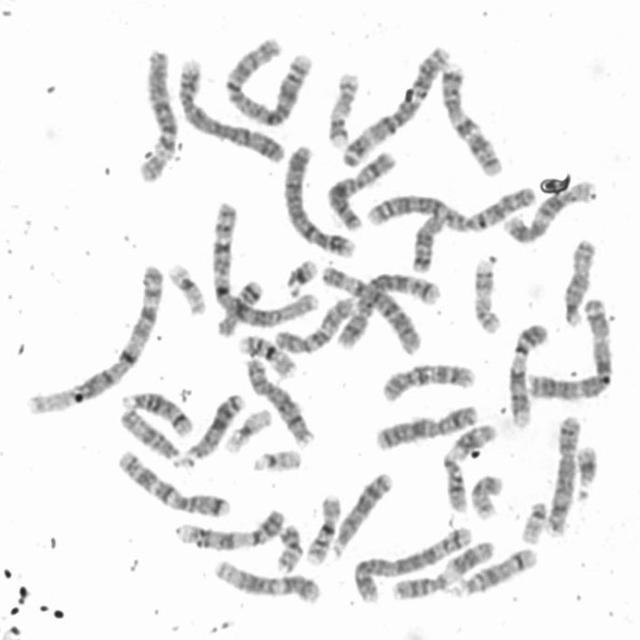A1: (21, 258, 167, 419), (207, 195, 322, 334)
A2: (361, 180, 540, 233), (220, 30, 315, 128)
A3: (340, 41, 452, 168), (521, 294, 615, 402)
B4: (174, 55, 288, 164), (278, 141, 356, 260)
B5: (350, 522, 476, 605), (332, 270, 442, 350)
C10: (272, 291, 358, 356), (378, 358, 479, 405)
C11: (388, 536, 498, 602), (438, 418, 501, 514)
C12: (502, 176, 598, 244), (210, 555, 322, 605)
C6: (318, 263, 426, 356), (134, 44, 180, 184)
C7: (114, 444, 234, 520), (436, 60, 506, 178)
C8: (243, 353, 316, 448), (540, 408, 585, 538)
C9: (504, 316, 552, 431), (170, 506, 288, 552)
D13: (328, 467, 394, 560), (172, 387, 248, 467)
D14: (448, 542, 540, 600), (119, 388, 195, 436)
D15: (114, 404, 190, 467), (559, 236, 598, 329)
E16: (302, 490, 344, 568), (236, 330, 299, 381)
E17: (323, 66, 362, 150), (469, 253, 503, 336)
E18: (212, 275, 264, 339), (407, 210, 446, 275)
F19: (163, 258, 209, 316), (222, 404, 273, 456)
F20: (466, 469, 506, 521), (272, 520, 305, 574)
G21: (571, 439, 601, 504), (281, 252, 320, 299)
G22: (247, 444, 304, 474), (517, 497, 550, 546)
X: (323, 148, 398, 235), (372, 402, 479, 452)
